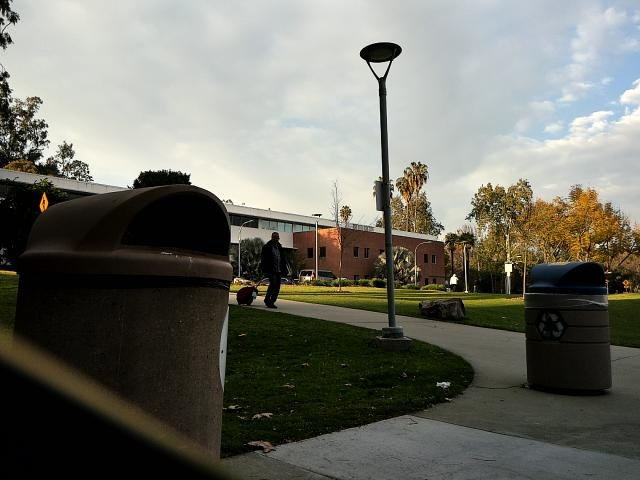trashcan: (11, 175, 248, 478), (512, 248, 624, 406)
